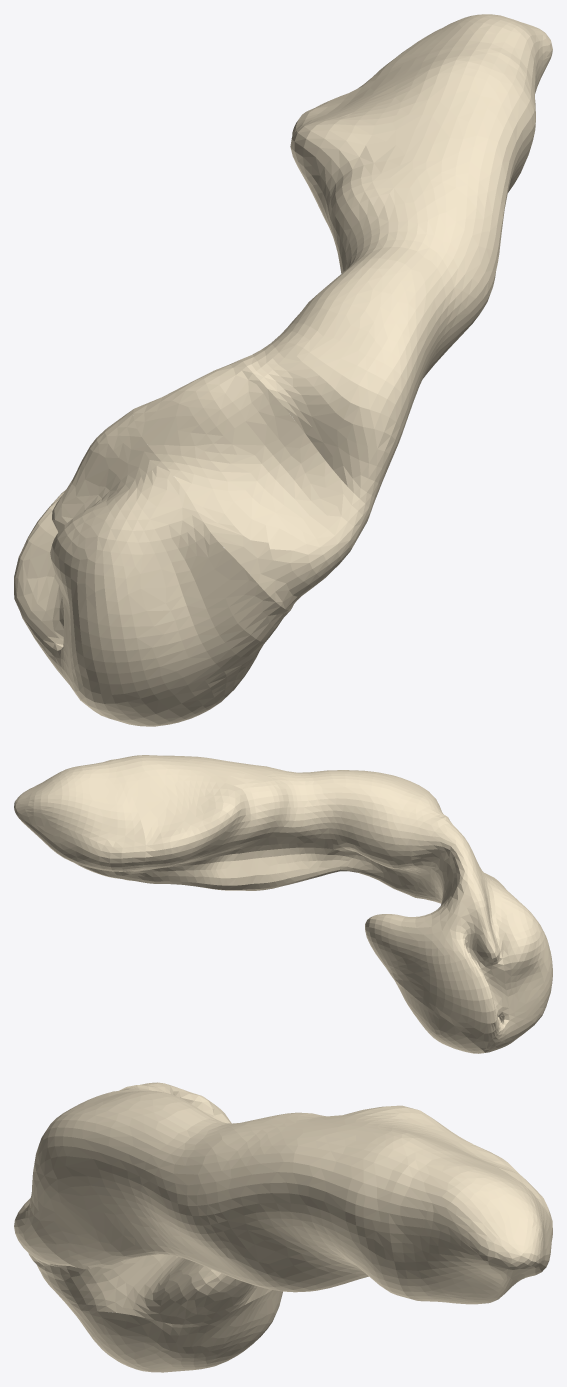
File: VH_M_Pancreas_0.6.glb
3 renders of one model, top to bottom at view 1: azimuth 30°, elevation 25°; view 2: azimuth 150°, elevation 25°; view 3: azimuth 270°, elevation 25°, orthographic. The views are drawn at different scales.
Parts seen in each view (by area): view 1: VH_M_body_of_pancreas, VH_M_head_of_pancreas, VH_M_neck_of_pancreas, VH_M_tail_of_pancreas, VH_M_uncinate_process_of_the_pancreas; view 2: VH_M_body_of_pancreas, VH_M_head_of_pancreas, VH_M_tail_of_pancreas, VH_M_neck_of_pancreas, VH_M_uncinate_process_of_the_pancreas; view 3: VH_M_body_of_pancreas, VH_M_tail_of_pancreas, VH_M_head_of_pancreas, VH_M_uncinate_process_of_the_pancreas, VH_M_neck_of_pancreas.
Boxes of the visible parts, x1,y1,x2,y2 form: VH_M_body_of_pancreas: (241,46,535,515); VH_M_head_of_pancreas: (14,409,289,720); VH_M_neck_of_pancreas: (133,359,369,610); VH_M_tail_of_pancreas: (334,14,552,98); VH_M_uncinate_process_of_the_pancreas: (111,646,262,726); VH_M_body_of_pancreas: (112,755,447,897); VH_M_head_of_pancreas: (365,875,552,1052); VH_M_tail_of_pancreas: (14,759,145,879); VH_M_neck_of_pancreas: (411,817,502,905); VH_M_uncinate_process_of_the_pancreas: (392,977,485,1053); VH_M_body_of_pancreas: (28,1085,520,1299); VH_M_tail_of_pancreas: (389,1151,552,1304); VH_M_head_of_pancreas: (37,1097,271,1324); VH_M_uncinate_process_of_the_pancreas: (70,1290,282,1372); VH_M_neck_of_pancreas: (14,1082,213,1274).
Bounding box in the file's own units: 0.1115 × 0.072 × 0.0836.
